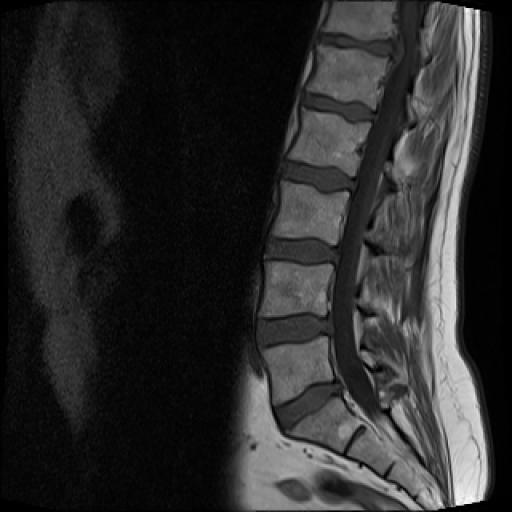L1: (305, 44, 389, 113)
L2: (287, 106, 370, 179)
L3: (270, 180, 349, 244)
L4: (258, 261, 334, 319)
L5: (258, 335, 334, 407)
S1: (285, 396, 360, 454)
